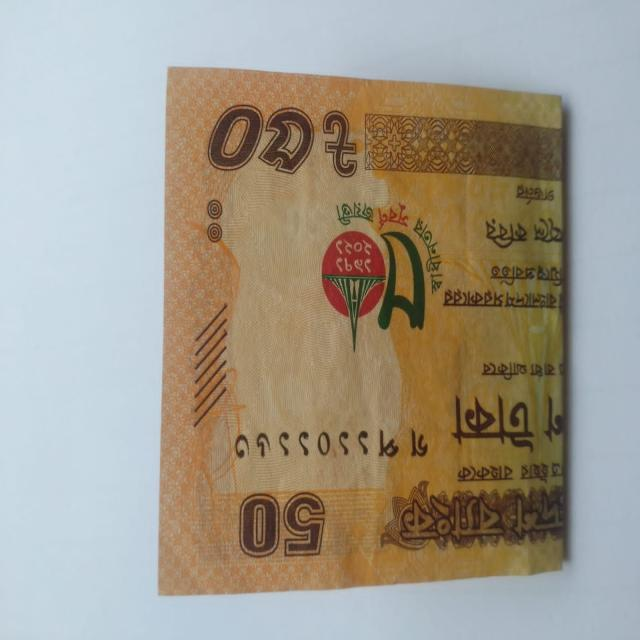Taka: (157, 55, 568, 605)
